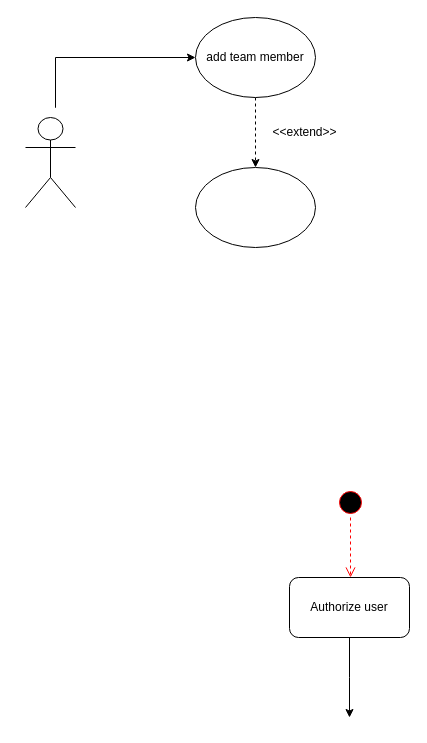
Image size: 427x743. Some labels were removed from this diagram. The centre of each missing label's shape, as x and y in pixels:
"Team leader" goes at (x=50, y=162).
"update project" goes at (x=255, y=207).
